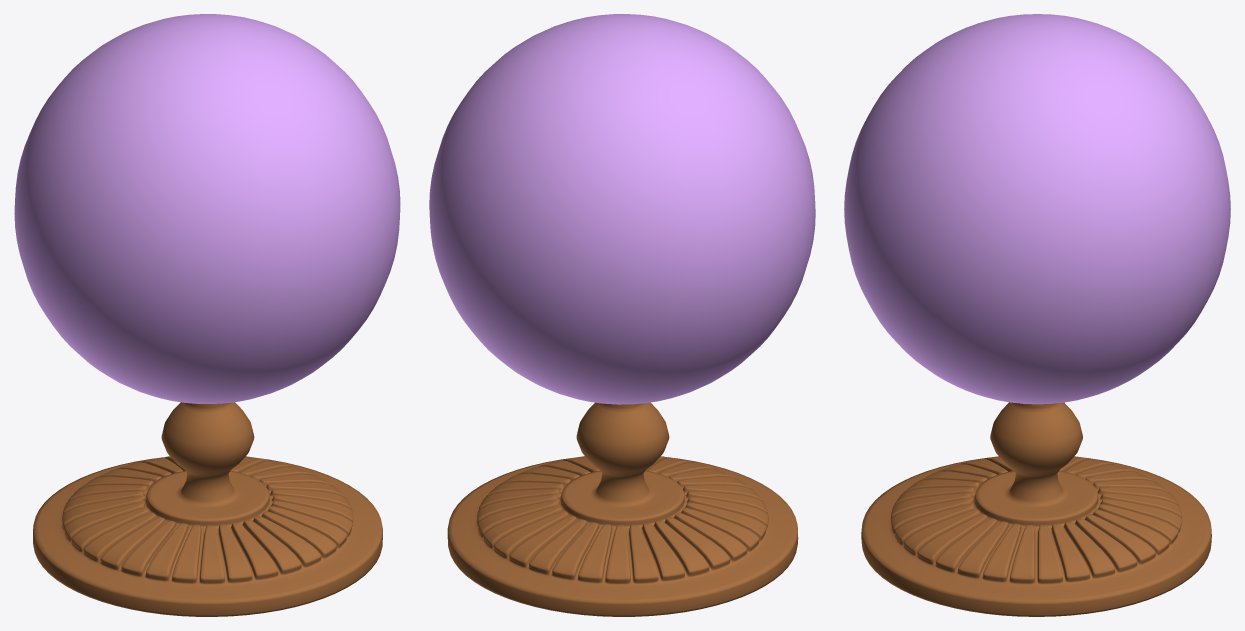
Rendered from magic_sphere.fbx.
3 renders of one model, left to right at view 1: azimuth 30°, elevation 25°; view 2: azimuth 150°, elevation 25°; view 3: azimuth 270°, elevation 25°, orthographic.
Visible parts, largest first — view 1: pSphere1, Cylinder222418; view 2: pSphere1, Cylinder222418; view 3: pSphere1, Cylinder222418.
Part boxes in pixels (box(x1,y1,x2,y2)): pSphere1: box(14, 14, 400, 403); Cylinder222418: box(33, 402, 382, 616); pSphere1: box(429, 14, 815, 404); Cylinder222418: box(447, 402, 798, 616); pSphere1: box(844, 14, 1230, 404); Cylinder222418: box(861, 402, 1211, 616).
Bounding box in the file's own units: 17.19 × 25.12 × 17.19.
